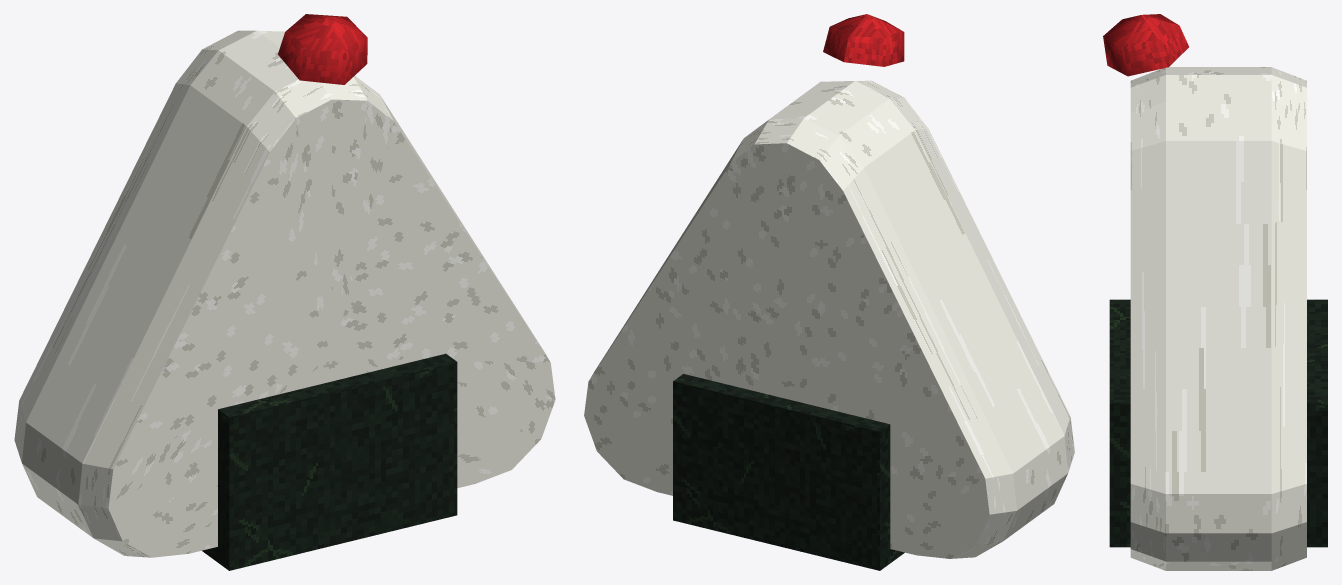
File: item_onigiri.glb
3 views of the same model, side by side, from view 1: azimuth 30°, elevation 25°; view 2: azimuth 150°, elevation 25°; view 3: azimuth 270°, elevation 25° (orthographic). The views are drawn at different scales.
Visible parts, largest first — view 1: item_onigiri; view 2: item_onigiri; view 3: item_onigiri.
Boxes of the visible parts, x1,y1,x2,y2 form: item_onigiri: (14, 14, 555, 570); item_onigiri: (584, 14, 1074, 570); item_onigiri: (1103, 14, 1327, 570).
Bounding box in the file's own units: 0.1442 × 0.1505 × 0.0639.
Materials: 3 (3 with a texture image).
